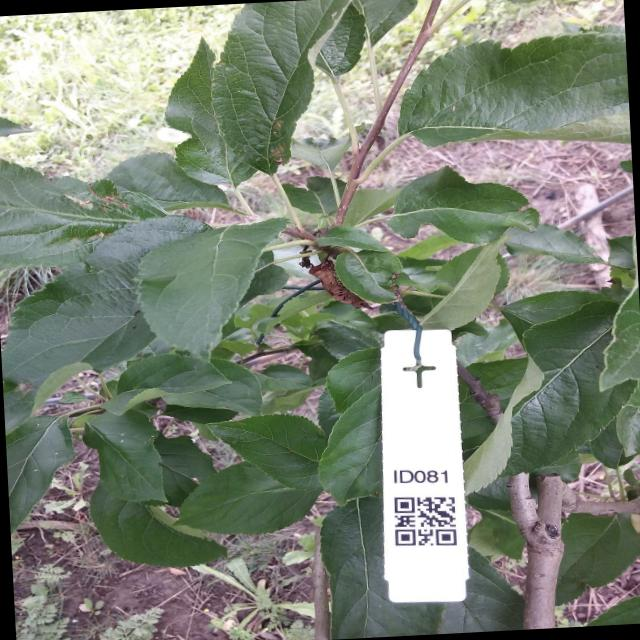-FireBlight-: (307, 243, 373, 313)
